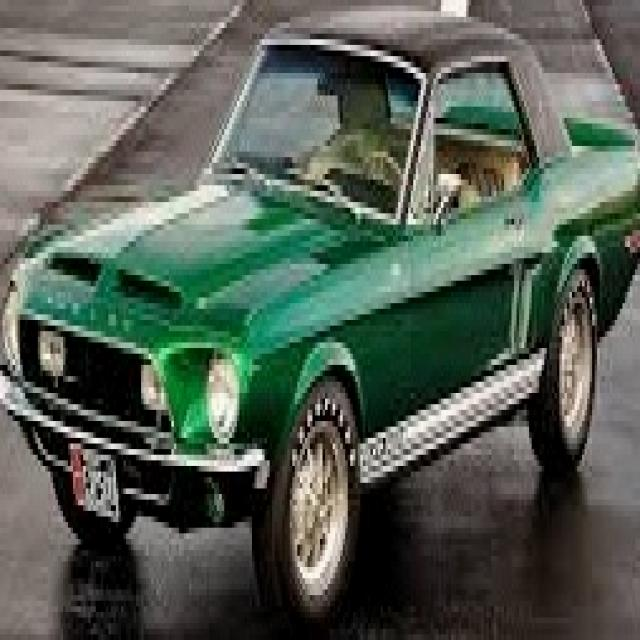green: (0, 15, 640, 634)
